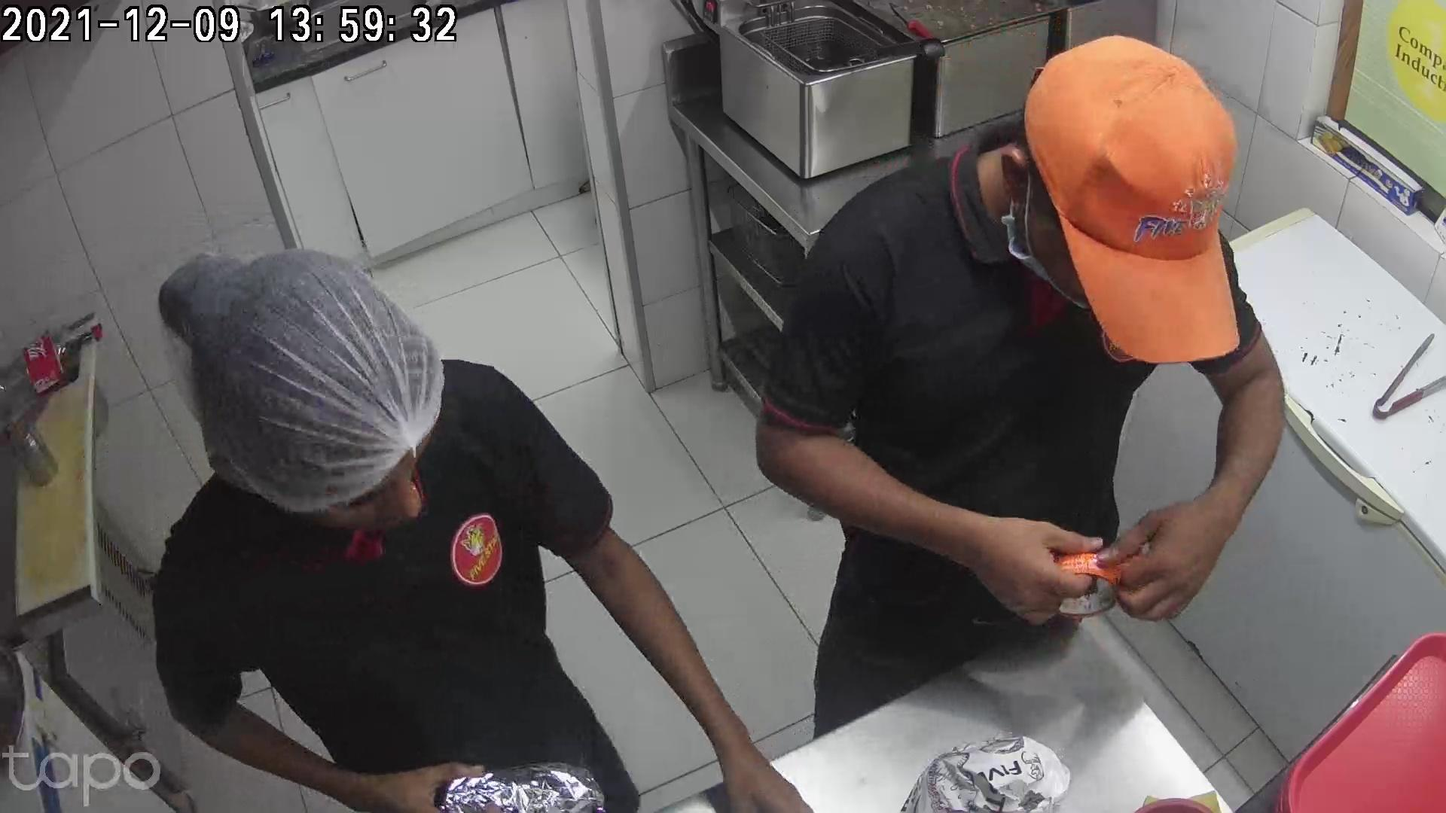no_gloves: (901, 510, 1066, 621)
